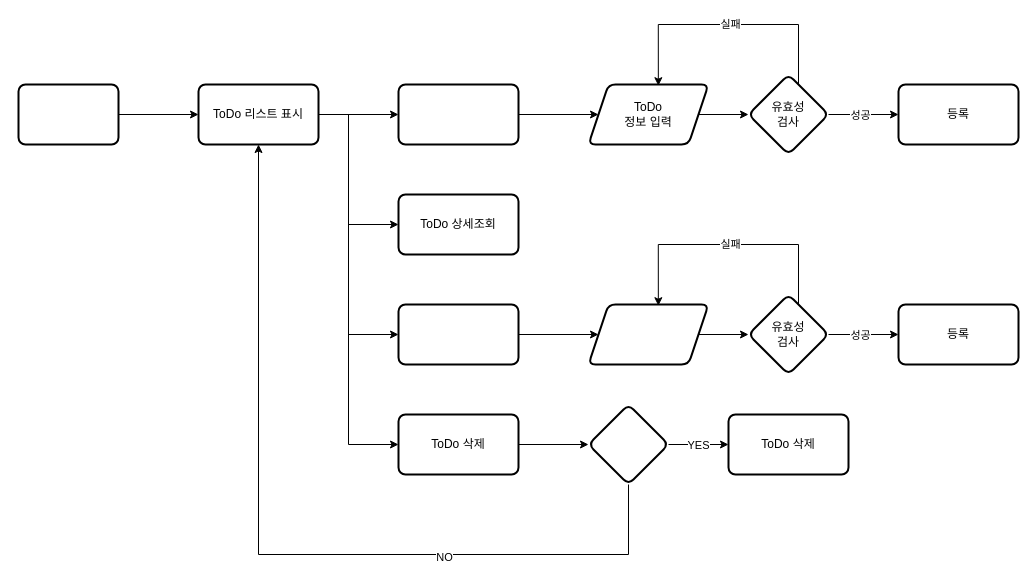
Some shapes in this 1036 by 581 pixel diagram are drawn without their labels. The shapes that lost their labels are listed below. From the top down, each one's centre as x and y in pixels, then its label:
the point at 68,114: 메인화면 진입
the point at 458,114: 신규 ToDo 생성
the point at 458,334: ToDo 수정
the point at 648,334: ToDo 수정 정보 입력
the point at 628,444: 이중 확인
